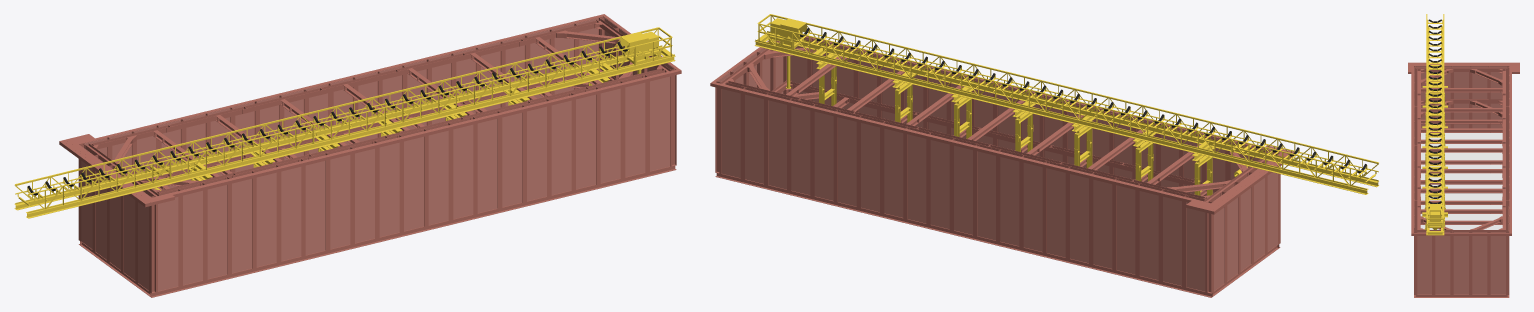
The model's file is 鶴ヶ峰_pit_belcon.fbx.
The picture shows the model from 3 angles, left to right: view 1: azimuth 30°, elevation 25°; view 2: azimuth 150°, elevation 25°; view 3: azimuth 270°, elevation 25°; orthographic projection. The views are drawn at different scales.
Parts seen in each view (by area): view 1: pit, toripper2; view 2: pit, toripper2; view 3: pit, toripper2.
Boxes of the visible parts, x1,y1,x2,y2 form: pit: (59,14,681,297); toripper2: (14,27,675,218); pit: (710,36,1294,297); toripper2: (755,14,1378,195); pit: (1408,62,1519,297); toripper2: (1422,14,1447,235).
Size of the model in its own units: 4348 by 815 by 1000.
